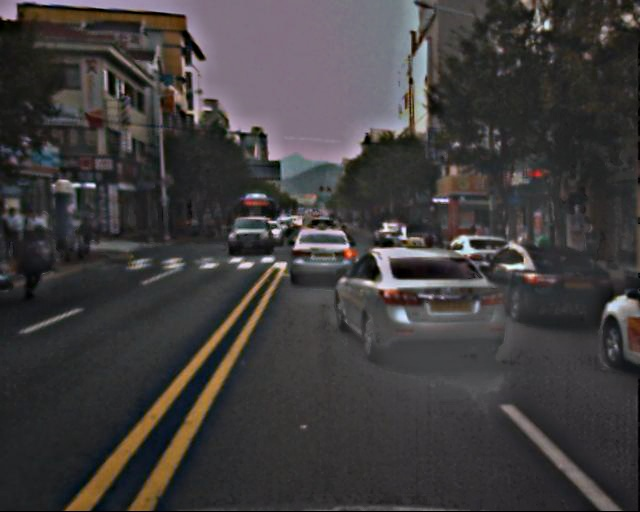person: (1, 208, 59, 293), (578, 224, 604, 288), (63, 211, 101, 247)
